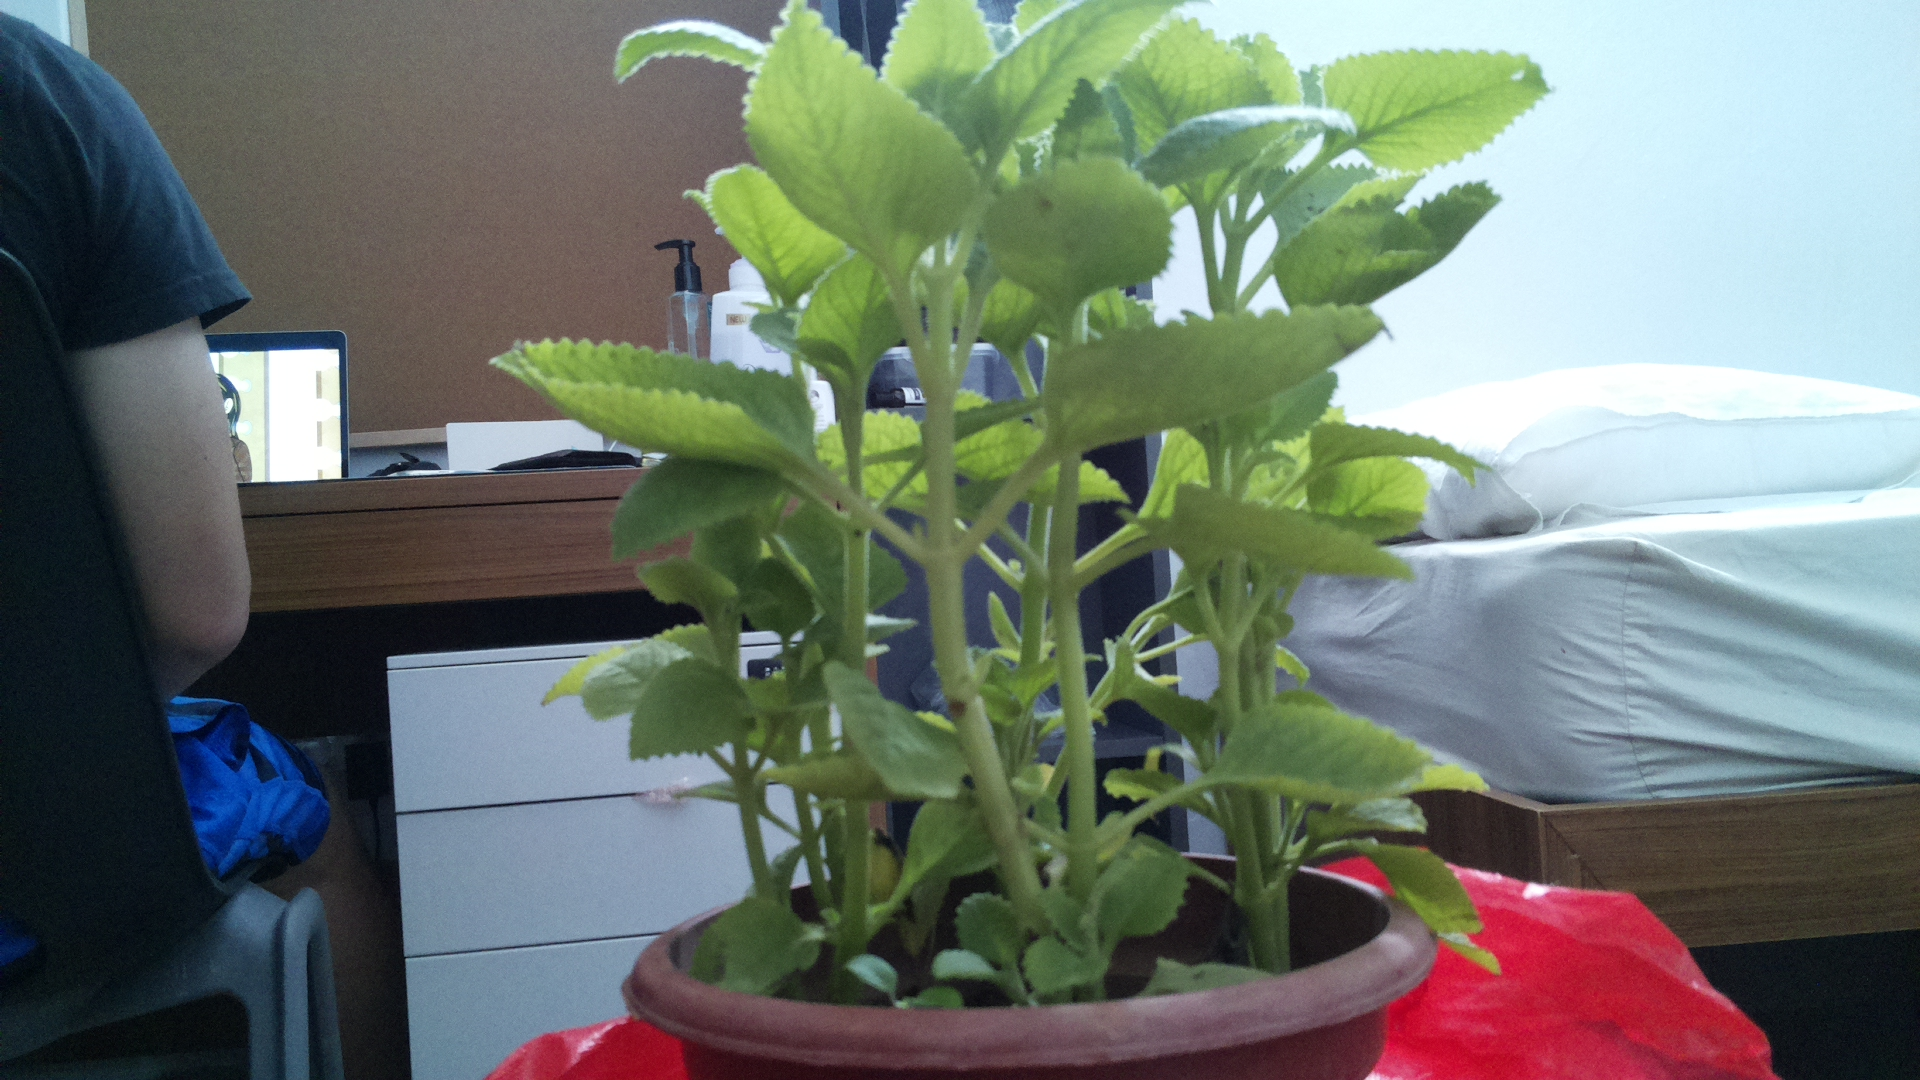leaf: (1021, 294, 1418, 469), (760, 11, 956, 273), (467, 335, 804, 477), (1315, 33, 1575, 178), (1273, 169, 1511, 299), (997, 141, 1188, 302), (1208, 711, 1501, 807), (1160, 483, 1415, 587), (600, 439, 803, 568), (822, 657, 969, 800), (601, 7, 796, 98), (611, 666, 757, 769)
